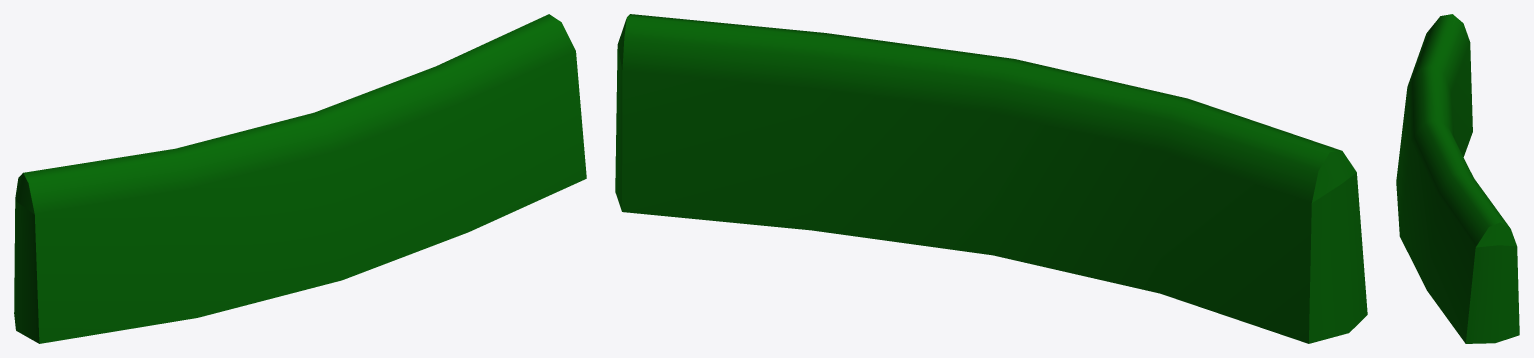
Rendered from SM_Yard_Bush.fbx.
The picture shows the model from 3 angles, left to right: view 1: azimuth 30°, elevation 25°; view 2: azimuth 150°, elevation 25°; view 3: azimuth 270°, elevation 25°; orthographic projection. The views are drawn at different scales.
Visible parts, largest first — view 1: SM_Yarrd_Bush; view 2: SM_Yarrd_Bush; view 3: SM_Yarrd_Bush.
Part boxes in pixels (x1=…): SM_Yarrd_Bush: x1=14, y1=14, x2=586, y2=343; SM_Yarrd_Bush: x1=615, y1=14, x2=1367, y2=343; SM_Yarrd_Bush: x1=1396, y1=14, x2=1519, y2=343.
Bounding box in the file's own units: 928 × 230 × 222.
